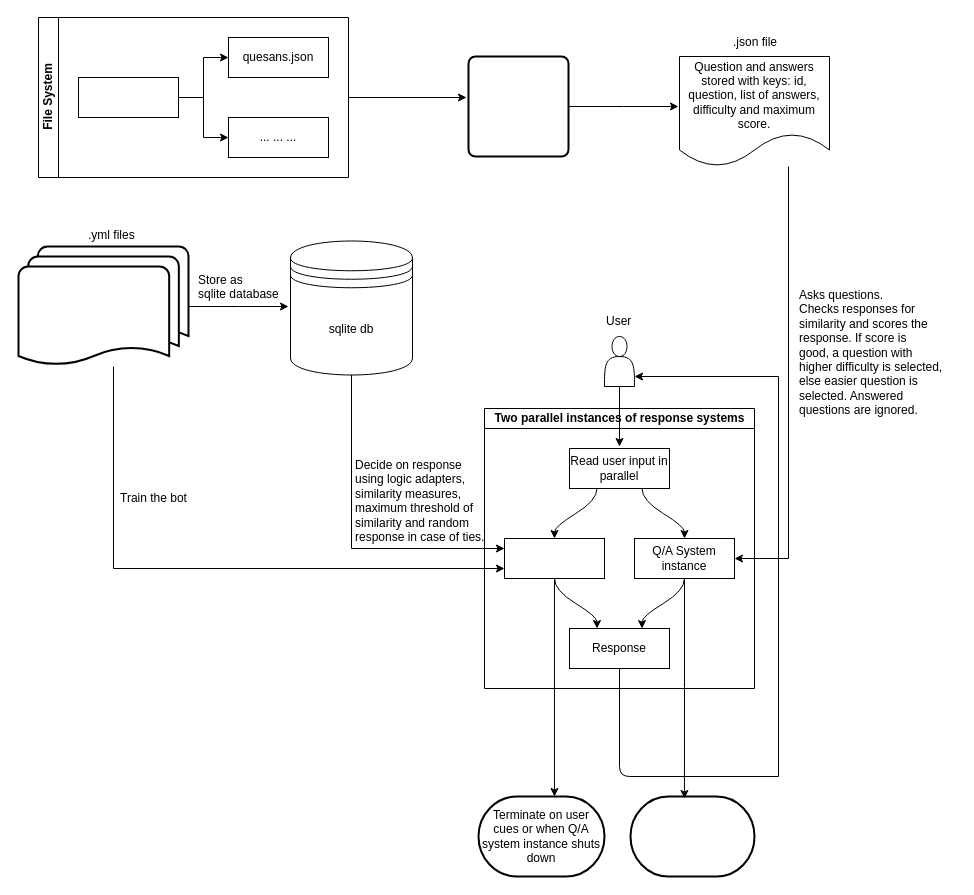
This 974x895 diagram has some shape labels left out. The shapes that lost their labels are listed below. From the top down, each one's centre as x and y in pixels, then its label:
At [128,97]: "Root".
At [518,106]: "Random generation of answers similar to a given answer".
At [103,306]: "General conversations stored with tags:- categories and conversations.".
At [554,558]: "General chatbot instance".
At [692,836]: "Terminate when a fixed number of questions have been asked.".
